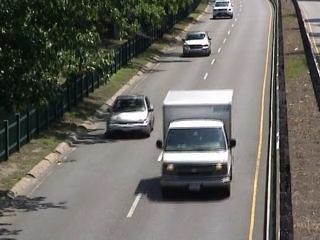car: (107, 94, 158, 138), (180, 27, 214, 58), (207, 1, 234, 22)
truck: (157, 89, 240, 202)
